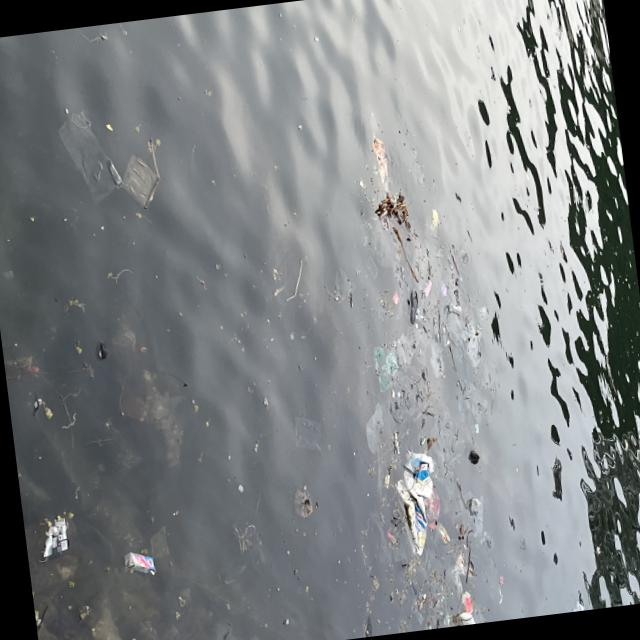plastic: (458, 610, 476, 626)
plastic bottle: (51, 107, 122, 208), (390, 449, 446, 558), (119, 150, 162, 210), (372, 339, 407, 392), (38, 515, 70, 560), (458, 487, 486, 536), (289, 412, 321, 453), (461, 320, 486, 368), (421, 486, 444, 532), (124, 550, 156, 576), (434, 520, 452, 544)
unknow: (405, 290, 421, 324), (461, 592, 474, 614)
